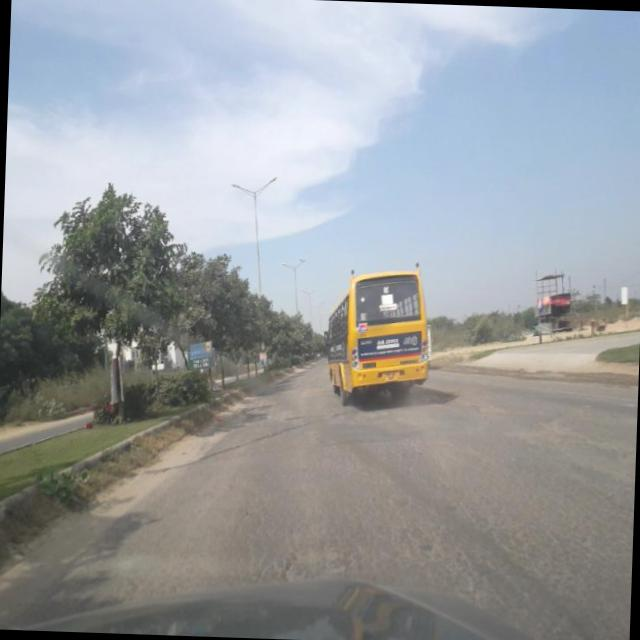crack: (136, 400, 632, 622)
pothole: (538, 410, 637, 476), (272, 526, 356, 582), (472, 398, 510, 426)
